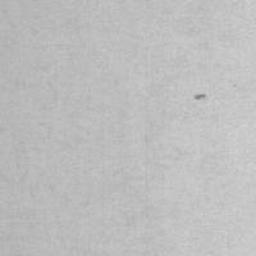Inclusion: (193, 93, 207, 100)
